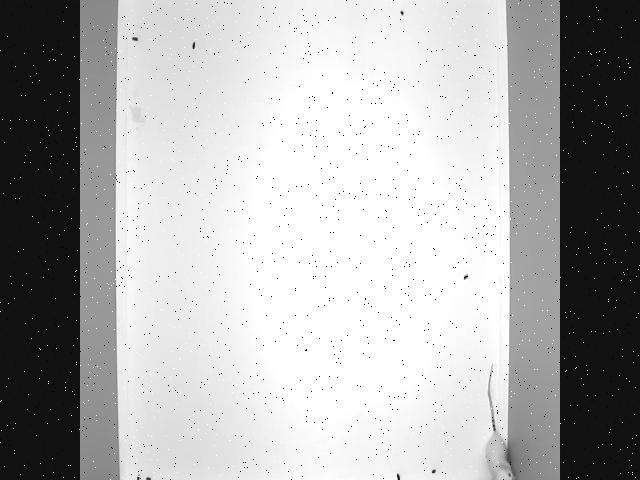Tikus: (482, 361, 520, 480)
